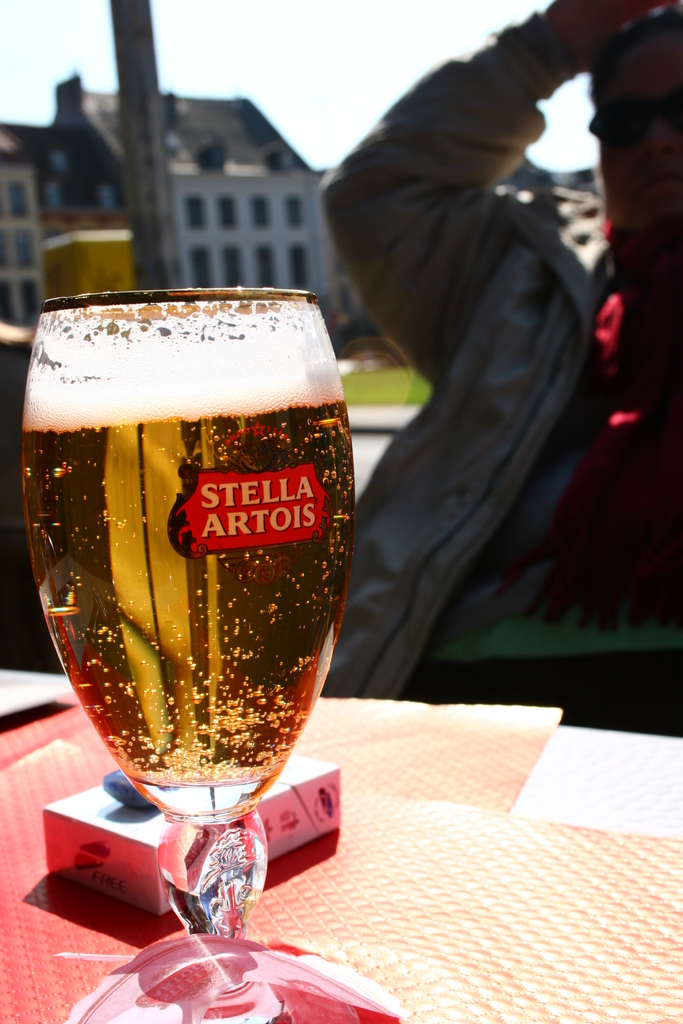Beer: (23, 333, 358, 795)
